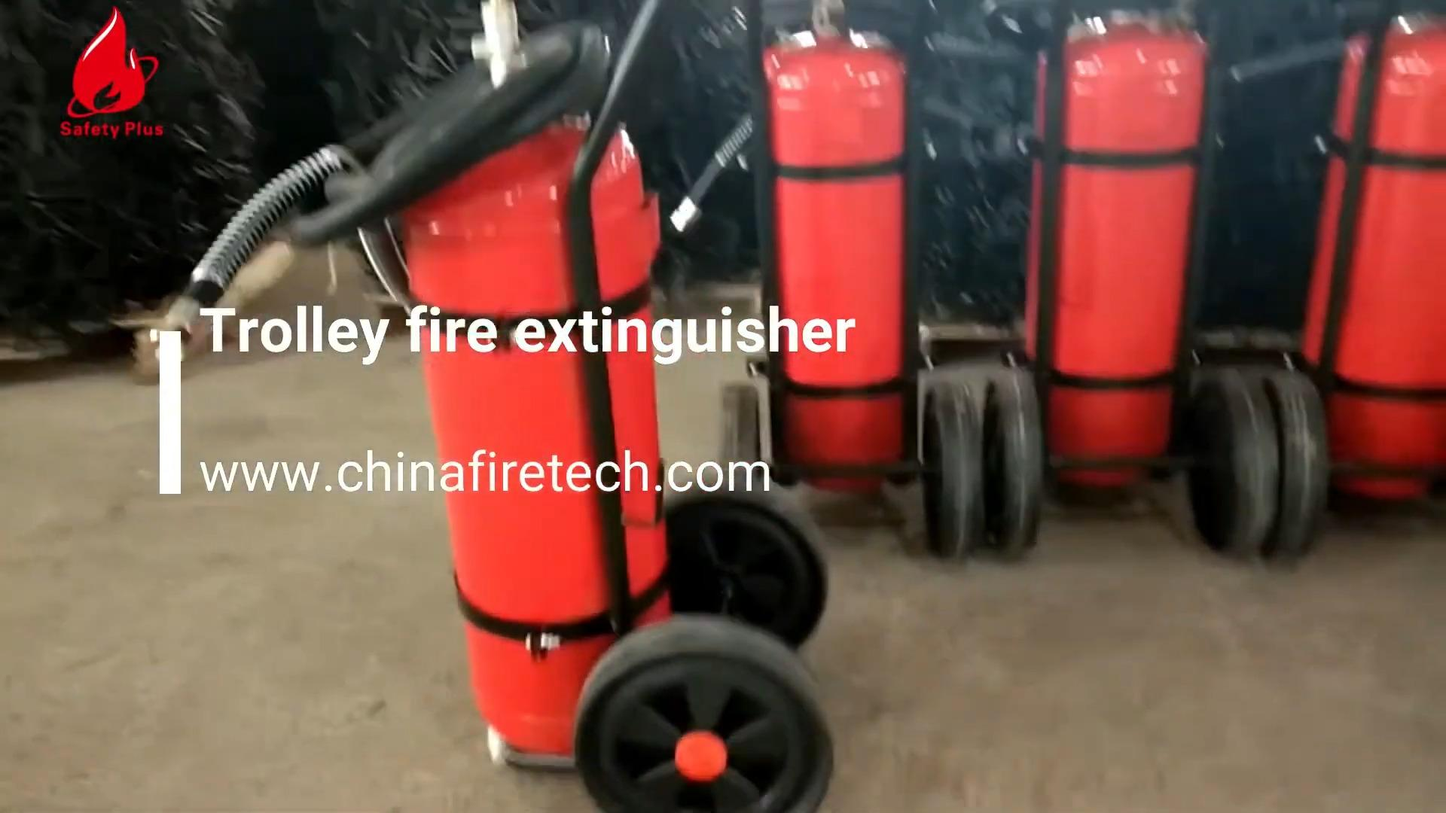FireExtinguisher: (370, 19, 708, 804), (984, 0, 1247, 521), (747, 8, 940, 512), (1309, 0, 1446, 516)
